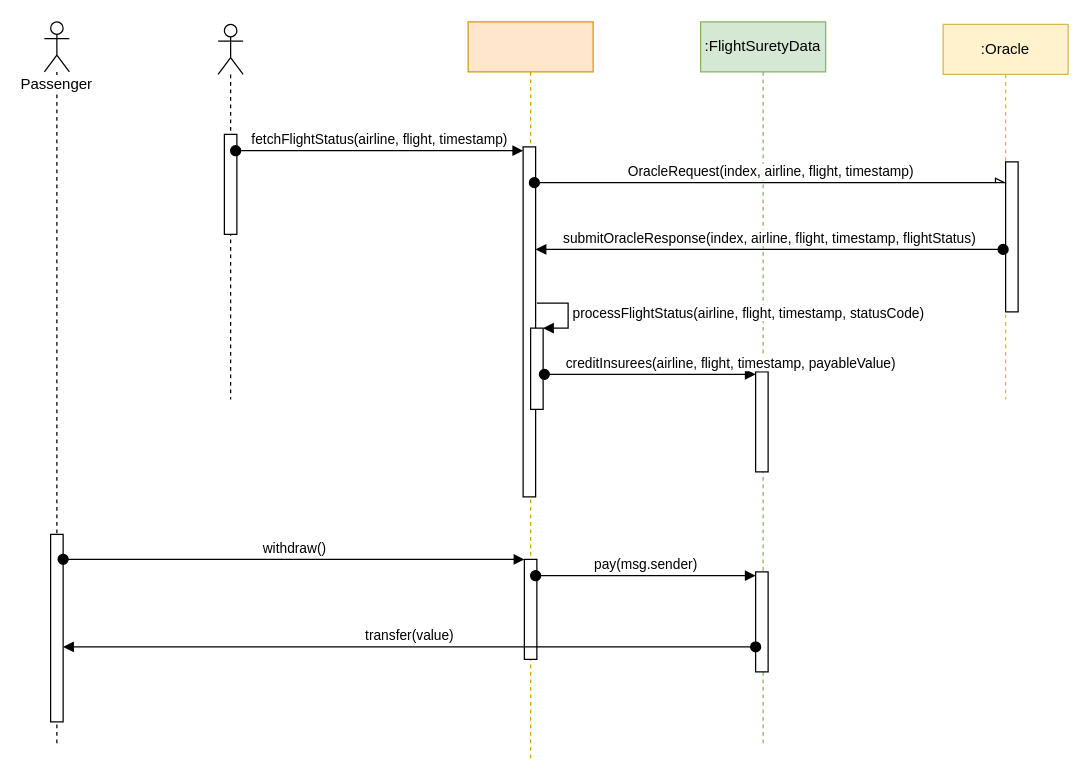
Image size: 1090x781. Some labels were removed from this diagram. Here are the shapes that lost their labels. From the top down, the centre of each, then its label:
(x=230, y=211): Admin
(x=530, y=390): :FlightSuretyApp
